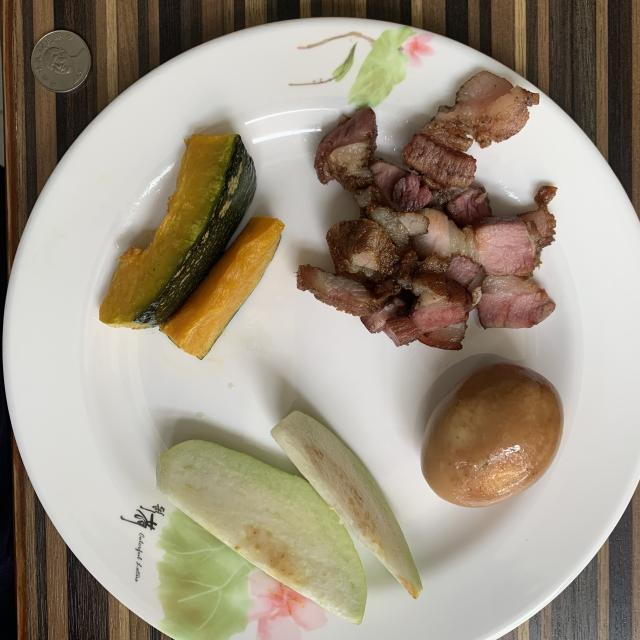coin: (31, 30, 91, 92)
grilled pork: (298, 71, 556, 350)
guava -sliced-: (156, 411, 422, 624)
pumpkin: (100, 134, 284, 359)
soy egg: (421, 362, 564, 508)
